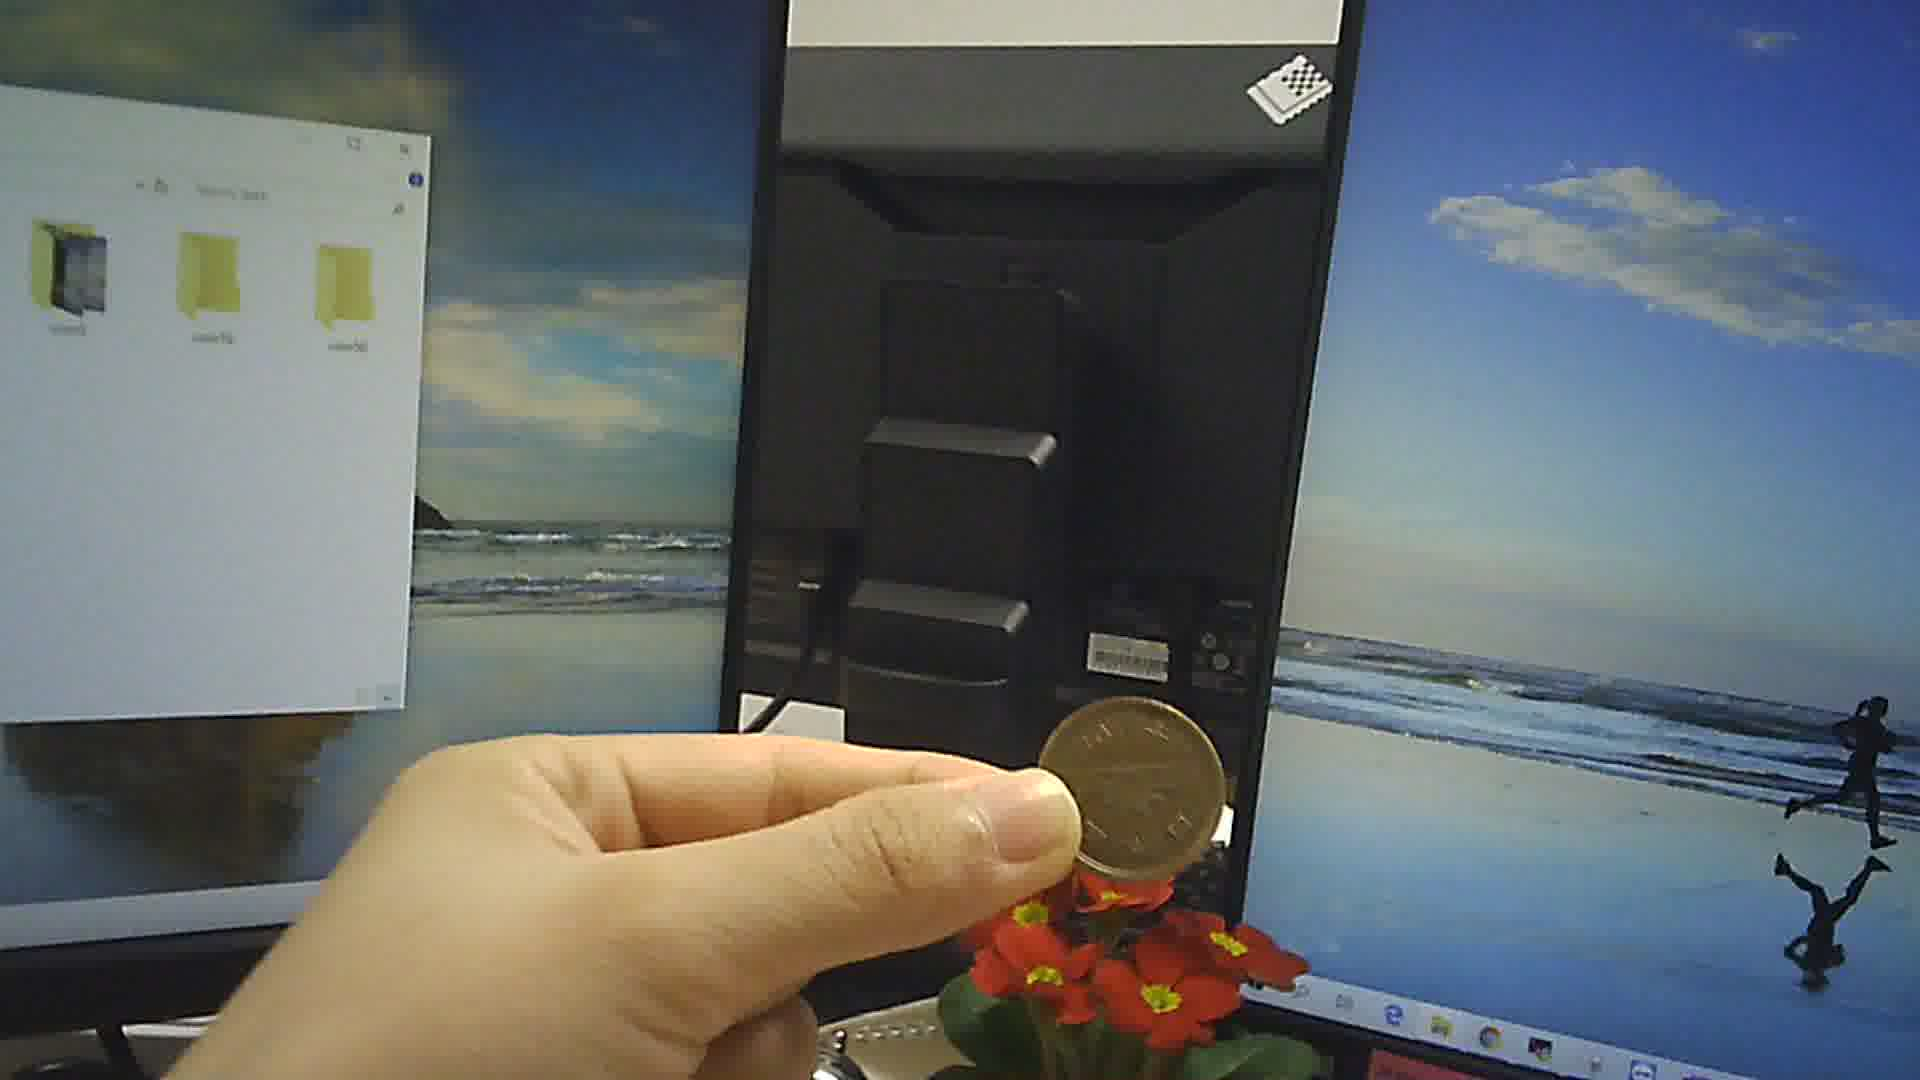10 Yen: (1033, 690, 1232, 880)
